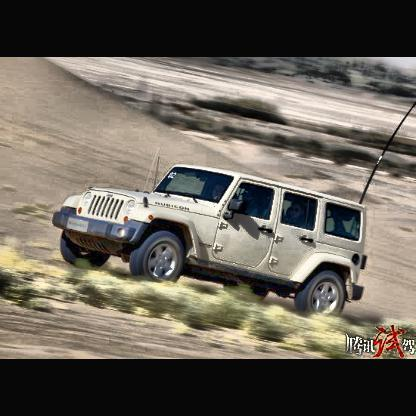Jeep Wrangler SUV 2012: (52, 161, 372, 319)
